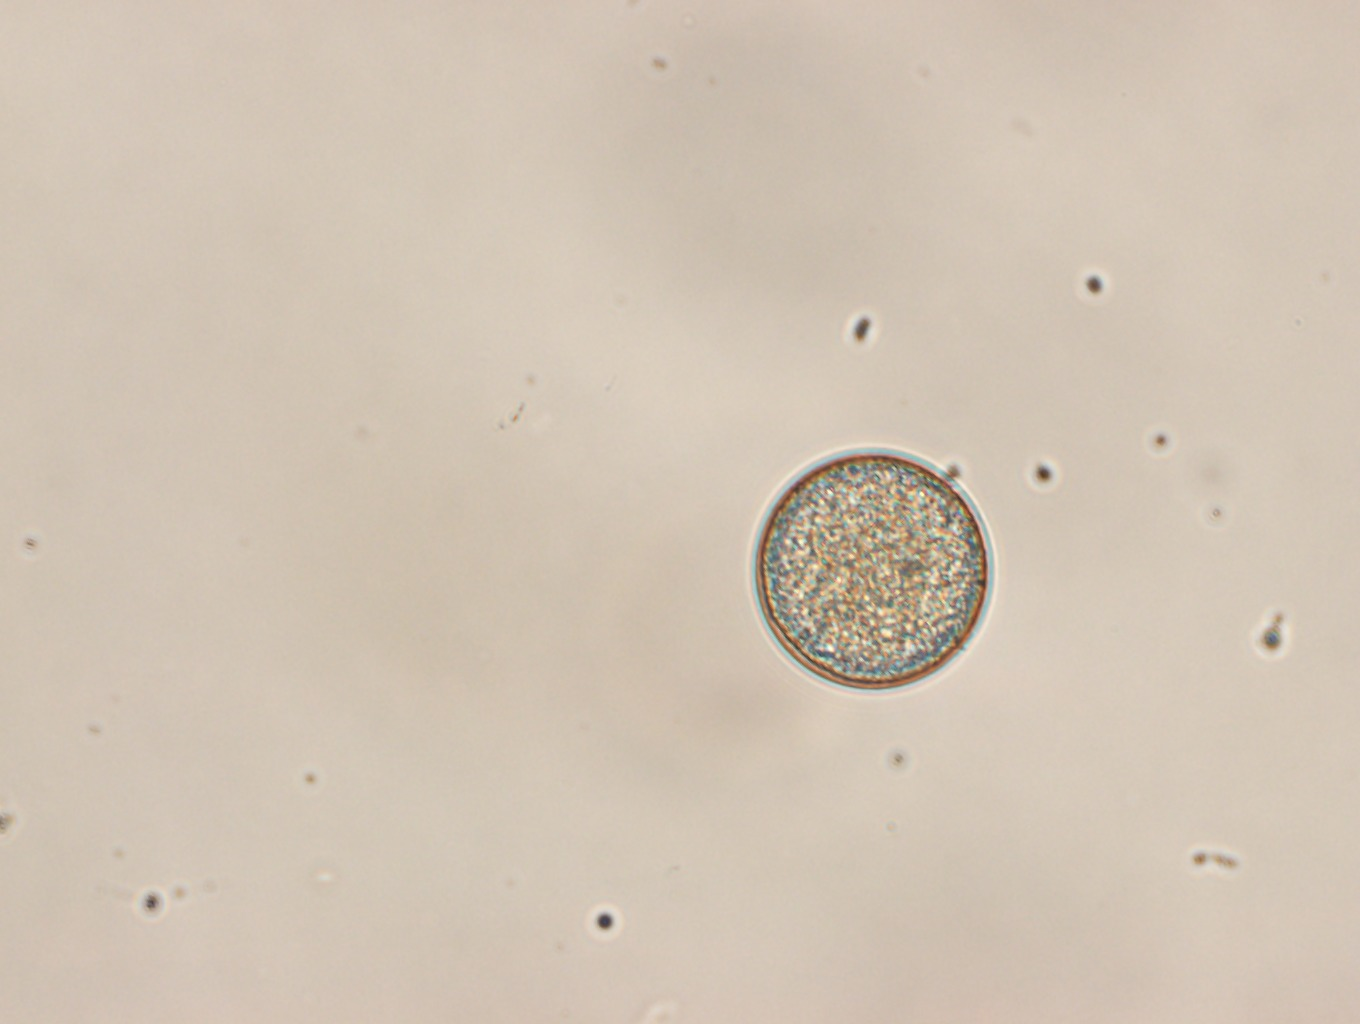coscinodiscus: (751, 447, 990, 693)
